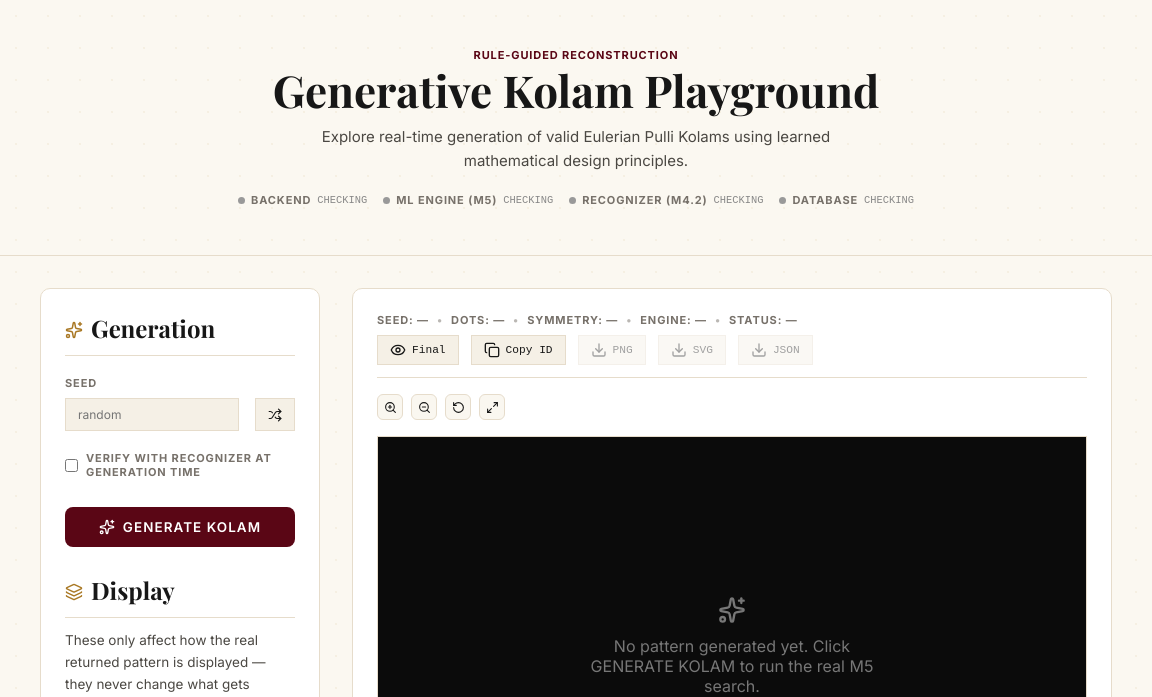
it: Playground — real generation flow › shows a real, honest error state on backend failure — never fabricated data
Click the button "GENERATE KOLAM" at [180, 527], box left=65, top=507, right=295, bottom=547
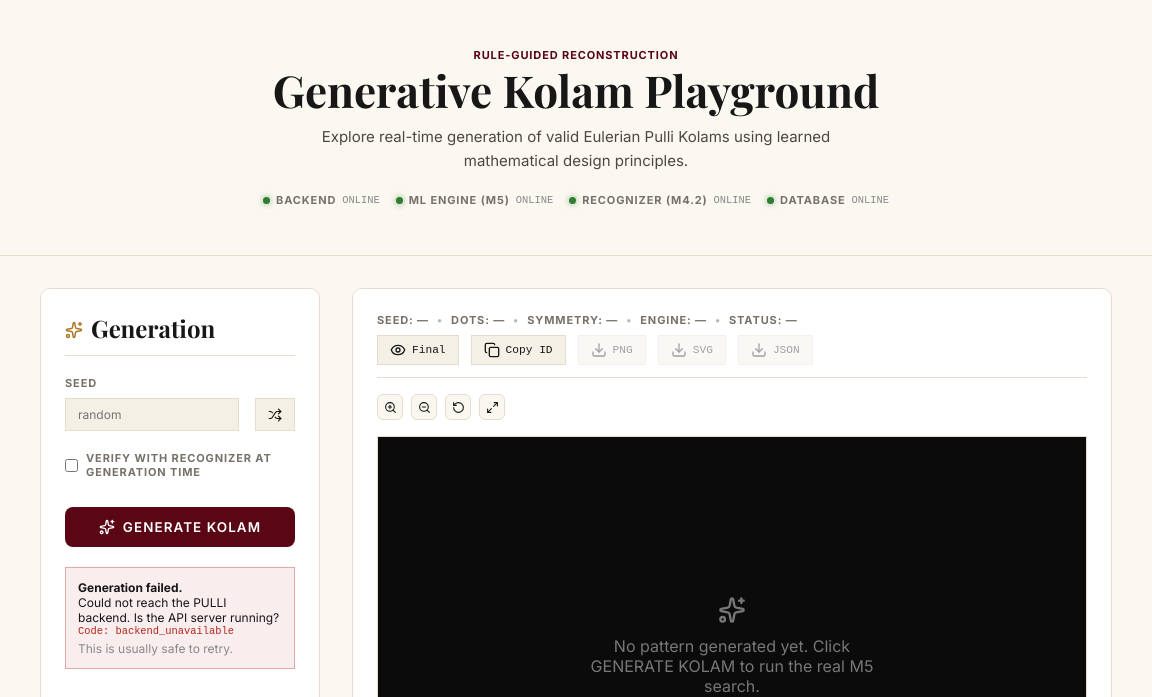
Expected: the text "Generation failed." is shown, left=78, top=580, right=182, bottom=595
Expected: the text "Could not reach the PULLI backend" is shown, left=78, top=595, right=279, bottom=625
